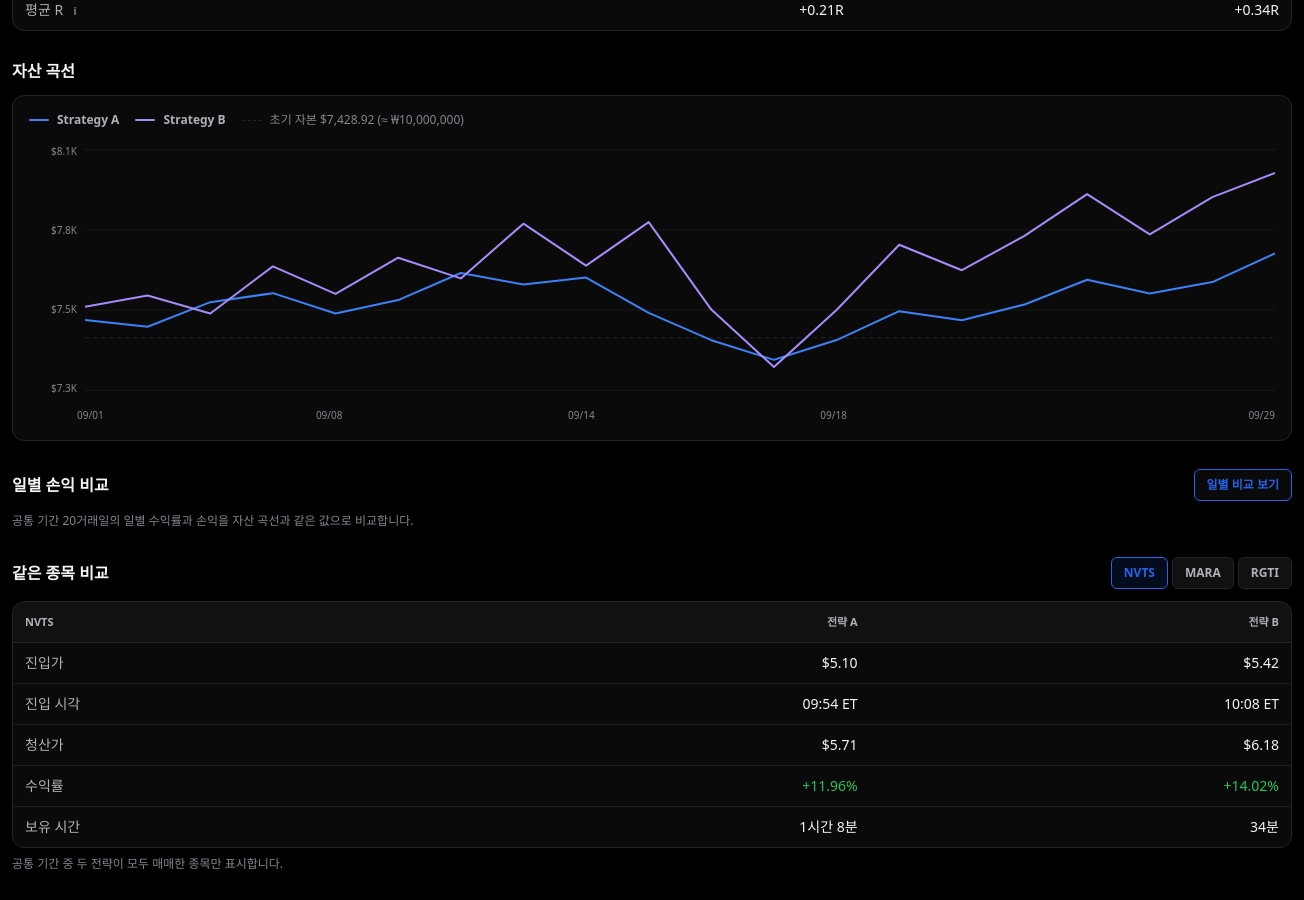
Test case: Comparison screen › switches the same-symbol comparison with the symbol selector
The width and height of the screenshot is (1304, 900).
(page scrolled)
Expected: the text "+11.96%" is shown, [433, 766, 870, 806]
Expected: the text "+14.02%" is shown, [870, 766, 1291, 806]
Click the button "RGTI" at (1265, 573), box [1238, 557, 1292, 589]
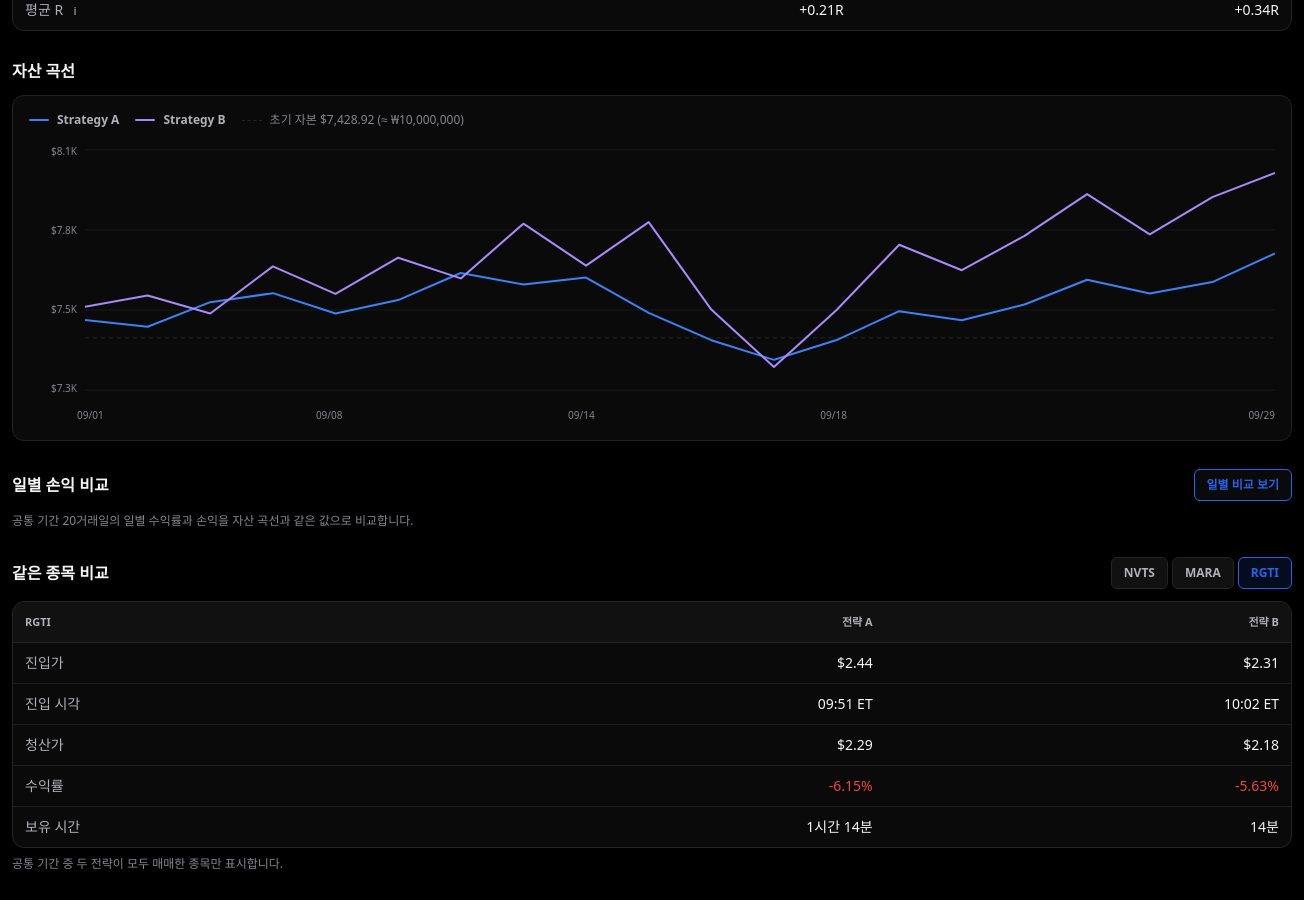
Expected: the text "-6.15%" is shown, [420, 766, 885, 806]
